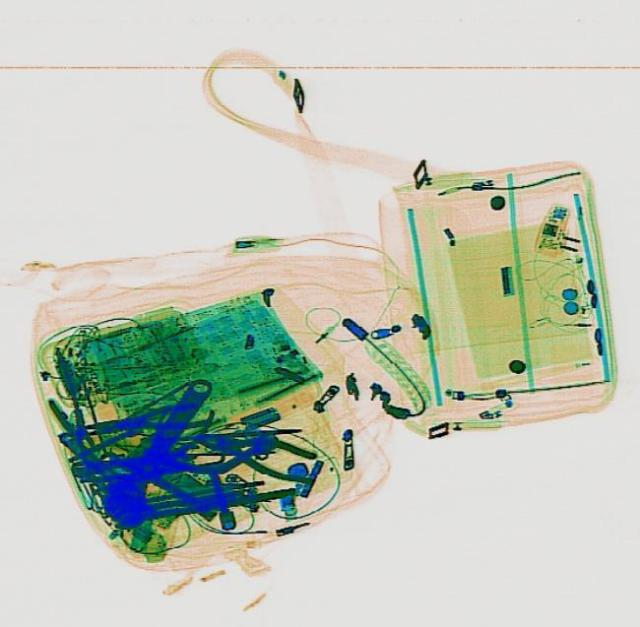Pliers: (190, 417, 320, 486), (80, 396, 210, 442)
Wrench: (91, 365, 223, 532)
